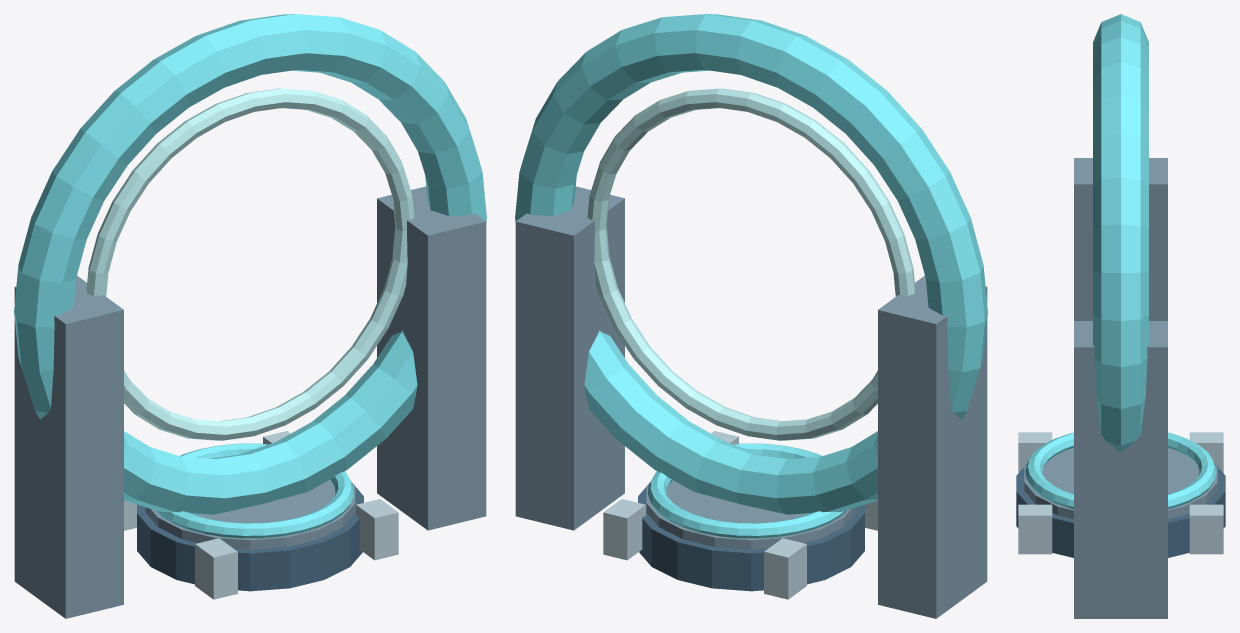
Rendered from entry_gate.glb.
3 views of the same model, side by side, from view 1: azimuth 30°, elevation 25°; view 2: azimuth 150°, elevation 25°; view 3: azimuth 270°, elevation 25° (orthographic). The views are drawn at different scales.
Parts seen in each view (by area): view 1: energy_ring_7, gate_column_9, gate_column_10, energy_ring_8, pedestal_0, armor_ring_1, energy_ring_2, bolt_5, bolt_6; view 2: energy_ring_7, gate_column_9, gate_column_10, energy_ring_8, pedestal_0, armor_ring_1, energy_ring_2, bolt_3, bolt_4; view 3: energy_ring_7, gate_column_10, gate_column_9, energy_ring_2, armor_ring_1, pedestal_0, bolt_4, bolt_6, bolt_3, bolt_5.
Part boxes in pixels (bbox=[...]): energy_ring_7: bbox=[14, 14, 486, 514]; gate_column_9: bbox=[14, 275, 123, 618]; gate_column_10: bbox=[377, 186, 486, 530]; energy_ring_8: bbox=[86, 88, 414, 440]; pedestal_0: bbox=[137, 482, 363, 591]; armor_ring_1: bbox=[145, 480, 355, 549]; energy_ring_2: bbox=[155, 443, 353, 538]; bolt_5: bbox=[195, 538, 237, 599]; bolt_6: bbox=[356, 499, 398, 560]; energy_ring_7: bbox=[515, 14, 987, 514]; gate_column_9: bbox=[878, 275, 987, 618]; gate_column_10: bbox=[515, 186, 624, 530]; energy_ring_8: bbox=[587, 88, 915, 440]; pedestal_0: bbox=[638, 482, 864, 591]; armor_ring_1: bbox=[646, 480, 856, 549]; energy_ring_2: bbox=[648, 443, 846, 538]; bolt_3: bbox=[764, 538, 806, 599]; bolt_4: bbox=[603, 499, 645, 560]; energy_ring_7: bbox=[1093, 14, 1148, 452]; gate_column_10: bbox=[1074, 321, 1167, 618]; gate_column_9: bbox=[1074, 158, 1167, 320]; energy_ring_2: bbox=[1025, 432, 1216, 509]; armor_ring_1: bbox=[1024, 448, 1217, 519]; pedestal_0: bbox=[1016, 463, 1225, 557]; bolt_4: bbox=[1189, 504, 1223, 554]; bolt_6: bbox=[1018, 504, 1052, 554]; bolt_3: bbox=[1189, 432, 1223, 472]; bolt_5: bbox=[1018, 432, 1052, 472].
Size of the model in its own units: 2.32 by 2.51 by 0.9765.
